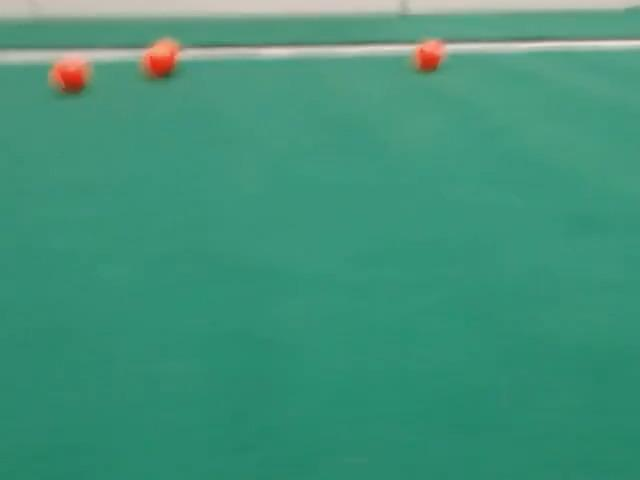Ball: (49, 57, 90, 93), (140, 41, 178, 77), (412, 40, 445, 71)
